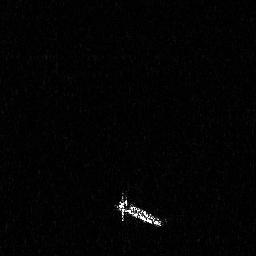ship: (113, 190, 168, 228)
